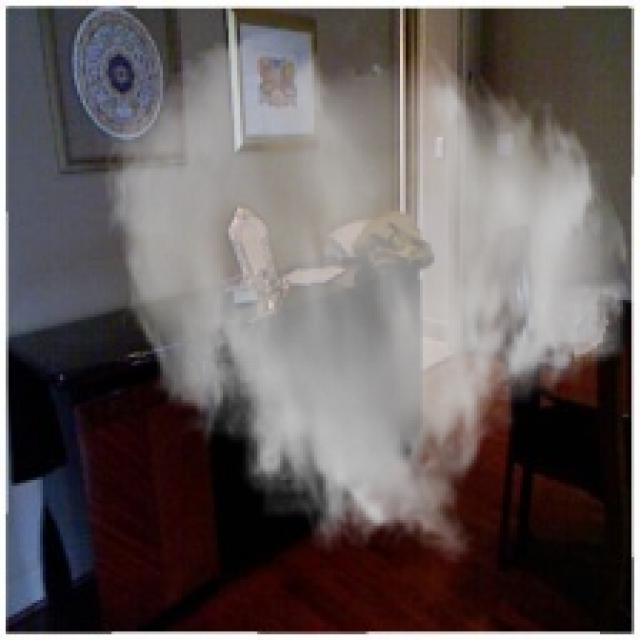smoke: (100, 28, 634, 566)
